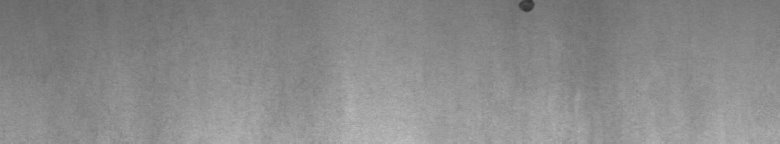fi: (516, 4, 539, 20)
